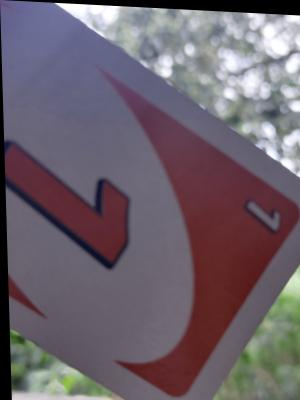num_1: (234, 182, 285, 238)
